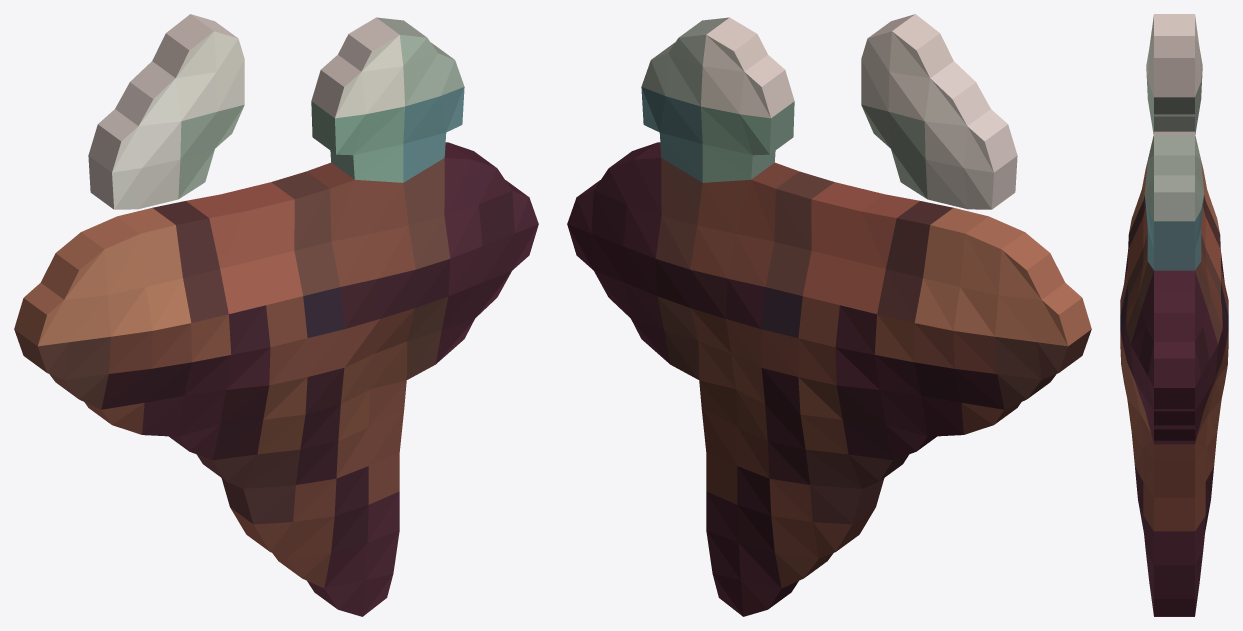
File: bracket_fungus.glb
3 renders of one model, left to right at view 1: azimuth 30°, elevation 25°; view 2: azimuth 150°, elevation 25°; view 3: azimuth 270°, elevation 25°, orthographic. The views are drawn at different scales.
Visible parts, largest first — view 1: bracket_fungus; view 2: bracket_fungus; view 3: bracket_fungus.
Boxes of the visible parts, bbox=[...] form: bracket_fungus: bbox=[14, 14, 538, 616]; bracket_fungus: bbox=[567, 14, 1091, 616]; bracket_fungus: bbox=[1120, 14, 1228, 616].
Bounding box in the file's own units: 0.8431 × 1 × 0.1813.
Materials: 1 (1 with a texture image).
